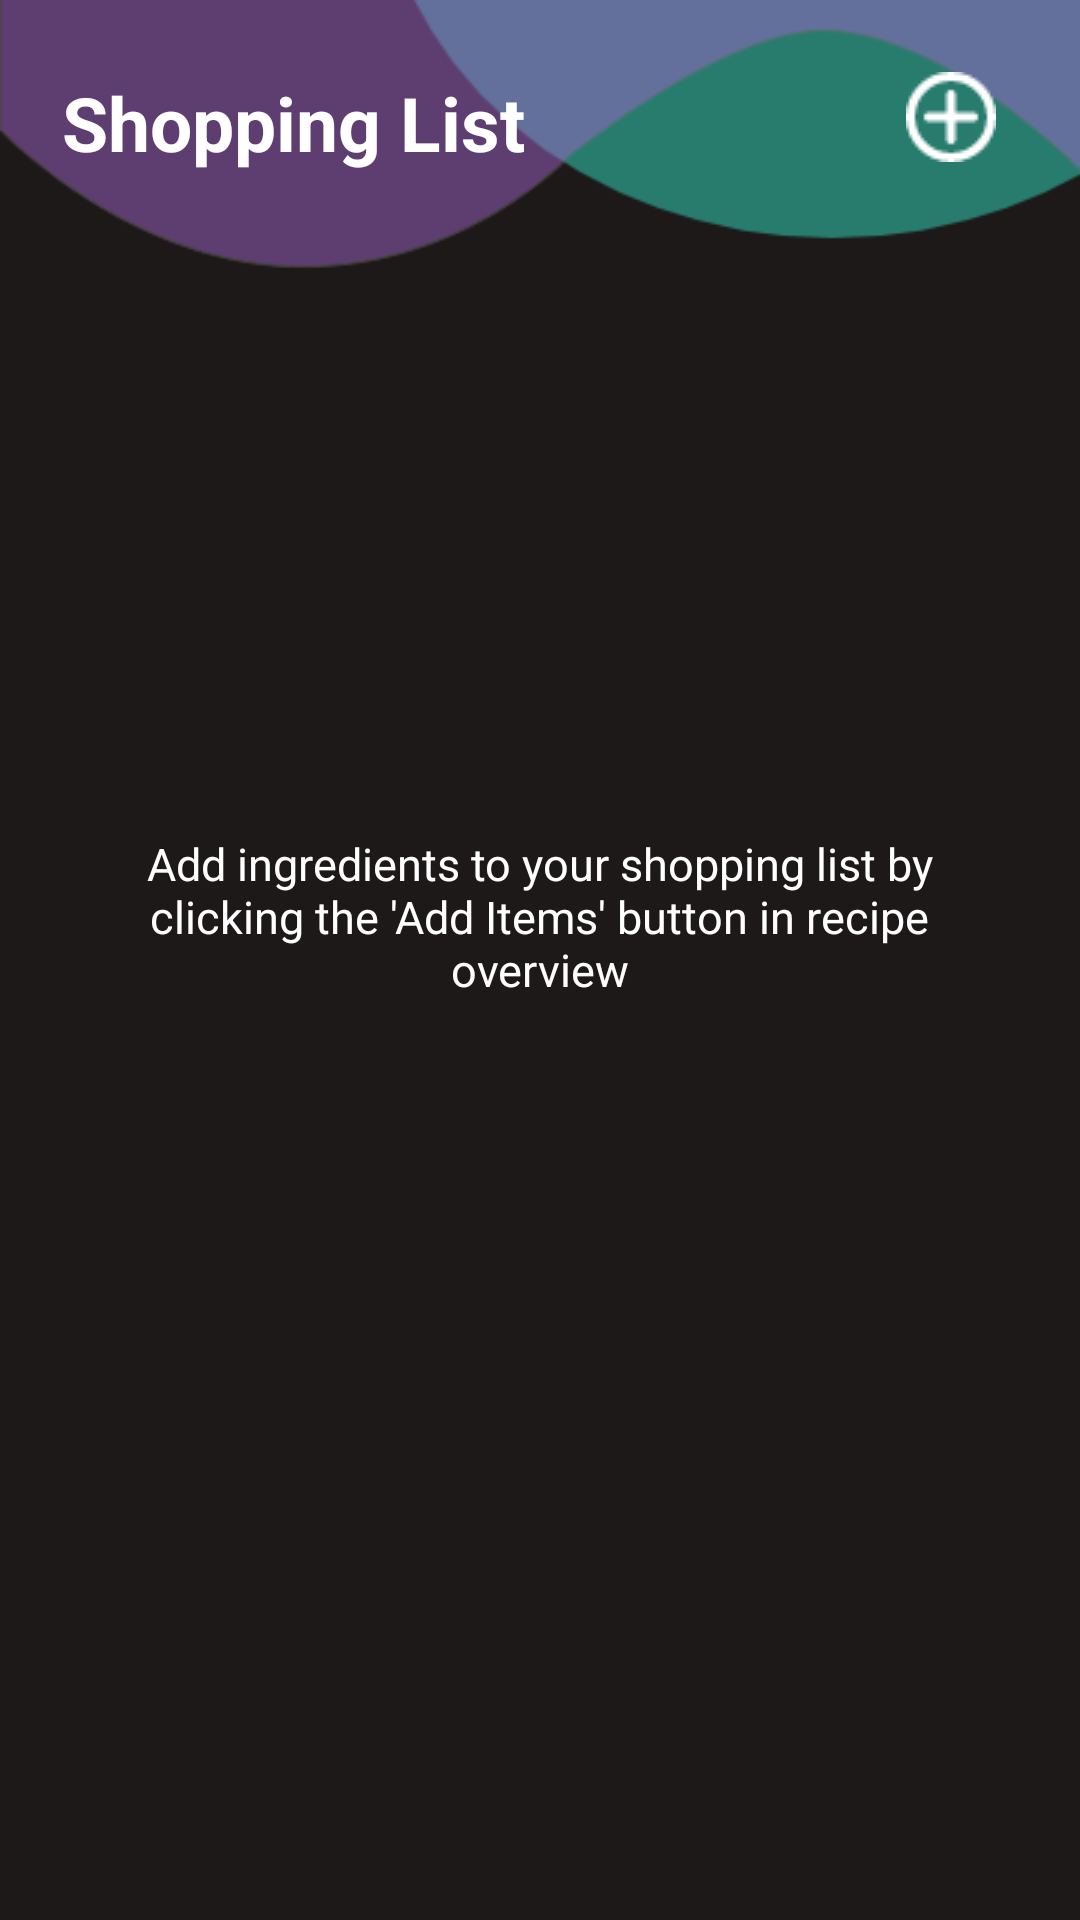

Screen size 1080*1920. Icon name, then its box in pixels as (x1, y1, x2, y2):
plus: (906, 72, 996, 162)
